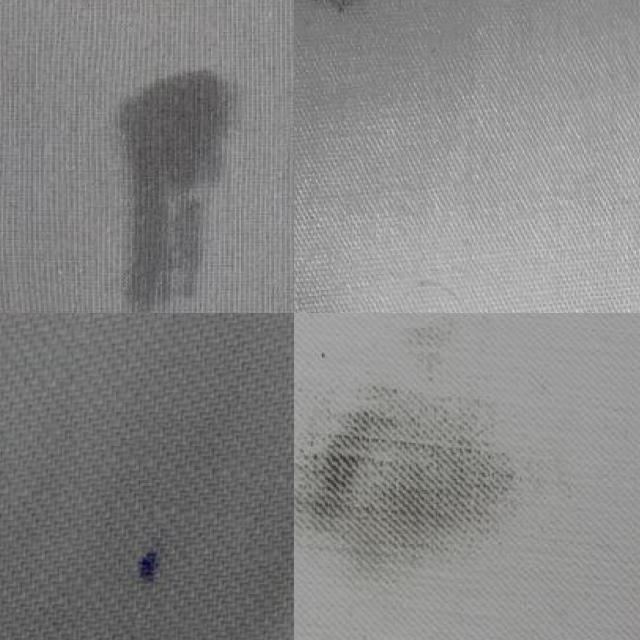Thread_other: (294, 313, 603, 640), (73, 37, 251, 313), (60, 506, 240, 640), (294, 0, 378, 23)
